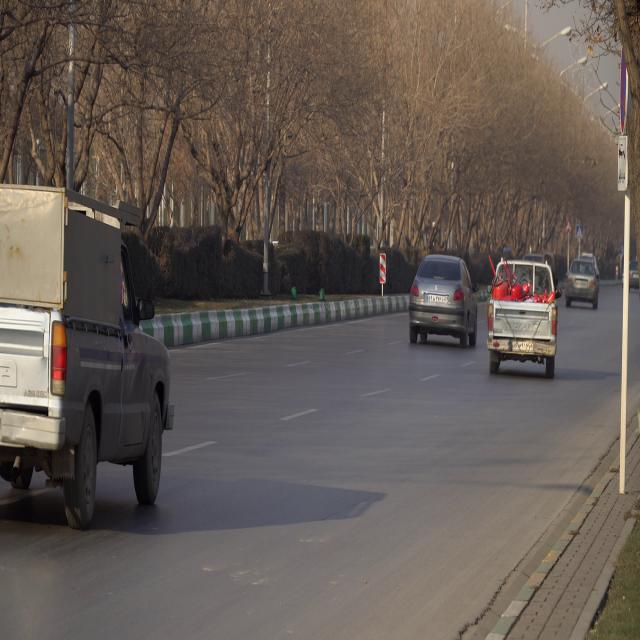truck: (0, 183, 173, 511), (485, 255, 561, 376), (409, 256, 477, 350), (564, 259, 602, 308)
